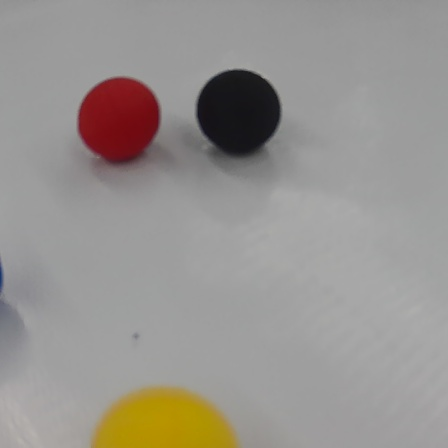black: (195, 67, 286, 156)
red: (76, 76, 162, 162)
yellow: (90, 384, 242, 448)
